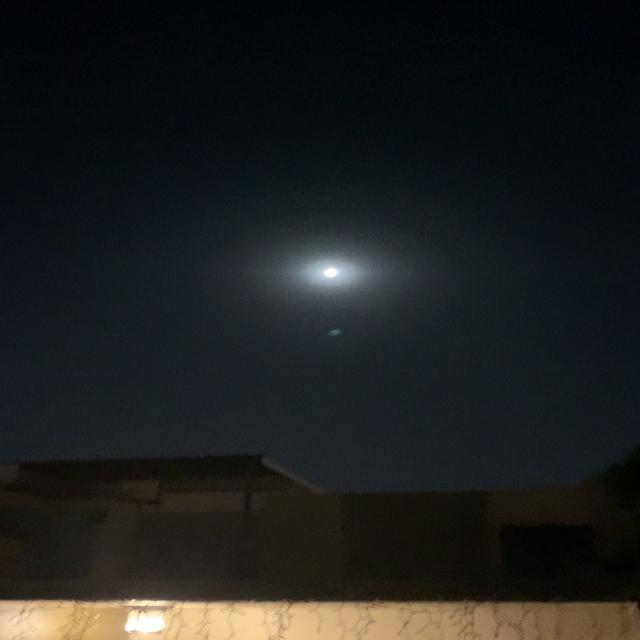moon: (314, 262, 366, 286)
